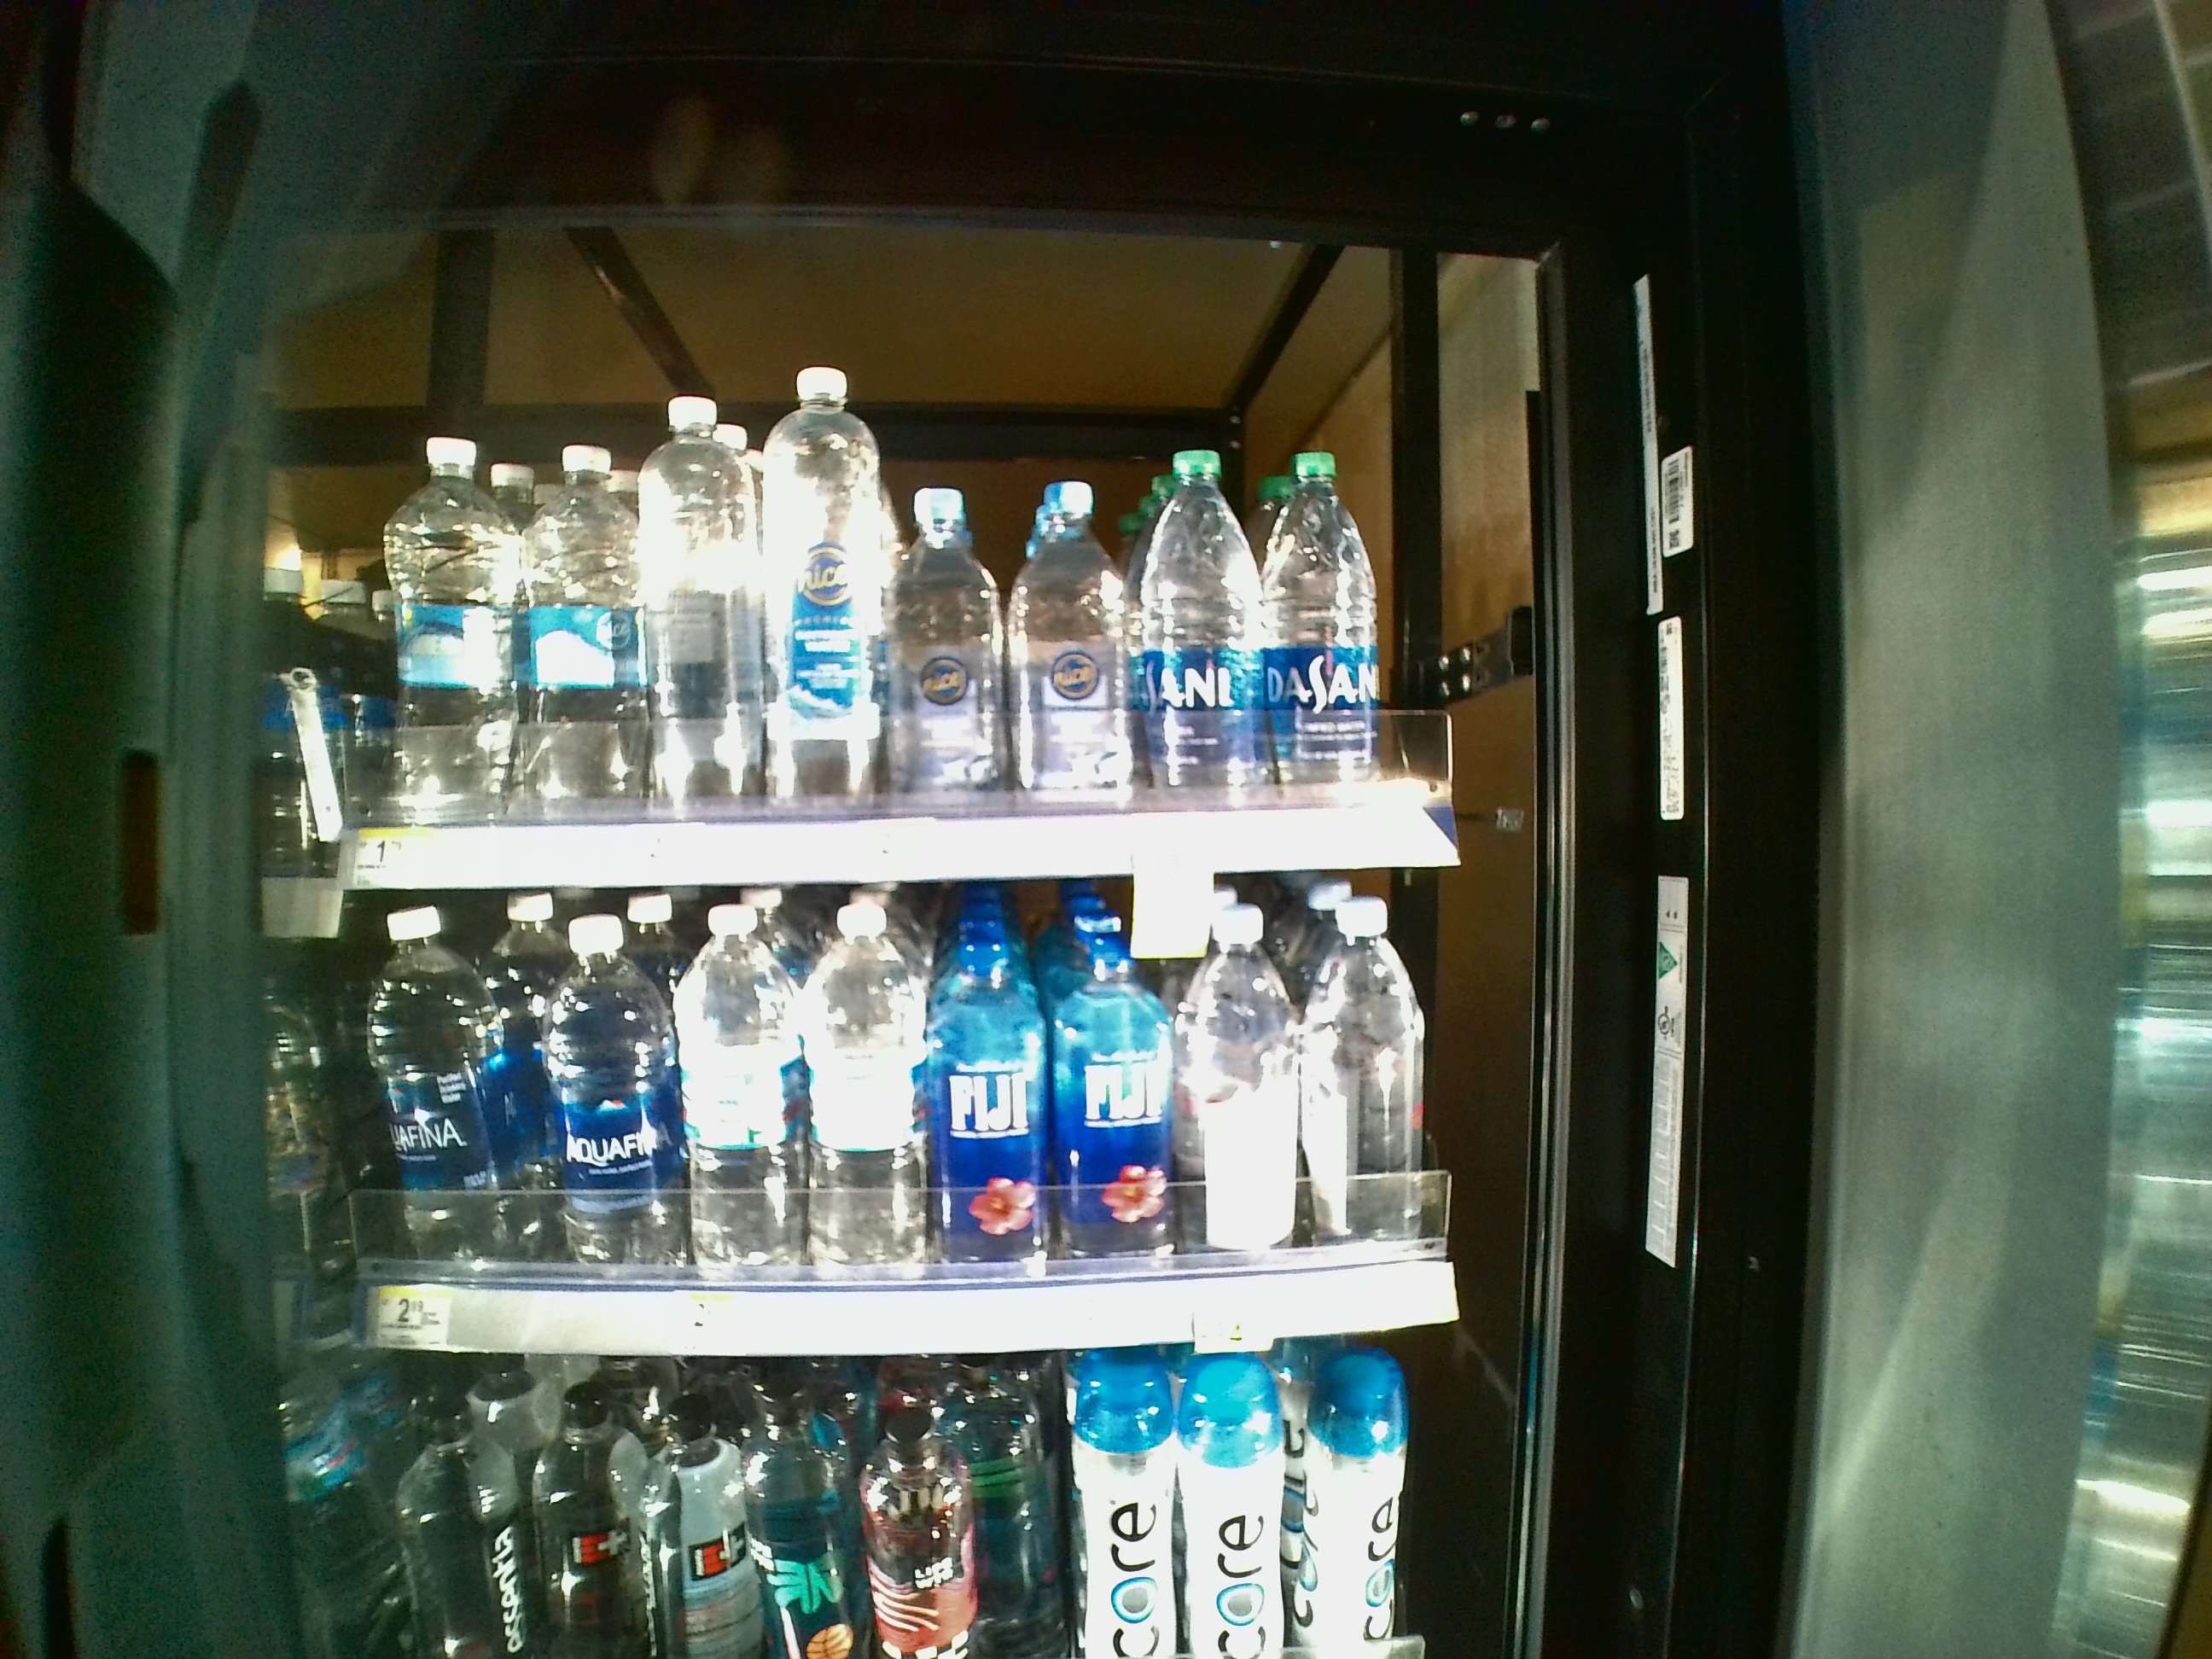Shelf: (307, 329, 1468, 887), (301, 889, 1468, 1361)
